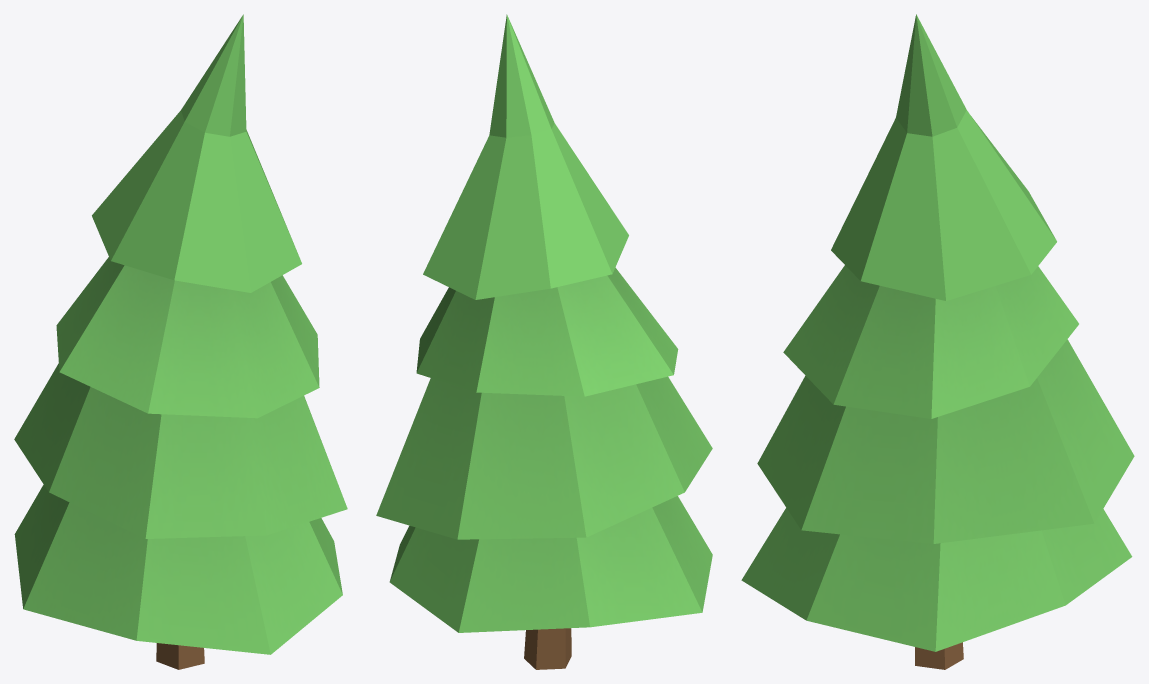
Rendered from Fir_Tree_OneSided_m_08_LOD.fbx.
3 views of the same model, side by side, from view 1: azimuth 30°, elevation 25°; view 2: azimuth 150°, elevation 25°; view 3: azimuth 270°, elevation 25° (orthographic). The views are drawn at different scales.
Parts seen in each view (by area): view 1: Fir_Tree_OneSided_m_08_LOD0; view 2: Fir_Tree_OneSided_m_08_LOD0; view 3: Fir_Tree_OneSided_m_08_LOD0.
Boxes of the visible parts, bbox=[...] form: Fir_Tree_OneSided_m_08_LOD0: bbox=[14, 14, 347, 669]; Fir_Tree_OneSided_m_08_LOD0: bbox=[376, 14, 712, 669]; Fir_Tree_OneSided_m_08_LOD0: bbox=[741, 14, 1134, 669].
Size of what is drawn, in the model's own units: 373 by 735 by 390.
